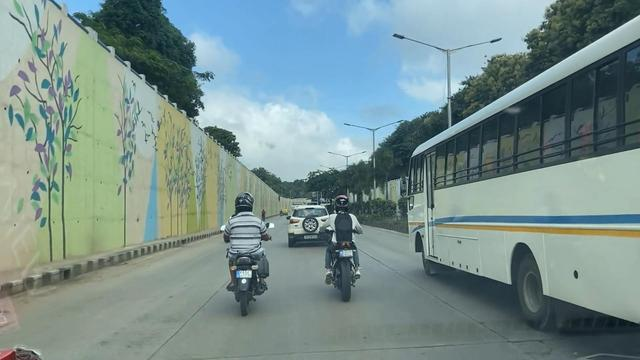HMV: (404, 46, 640, 303)
LMV: (228, 194, 270, 301), (319, 203, 359, 302), (286, 208, 323, 248)
